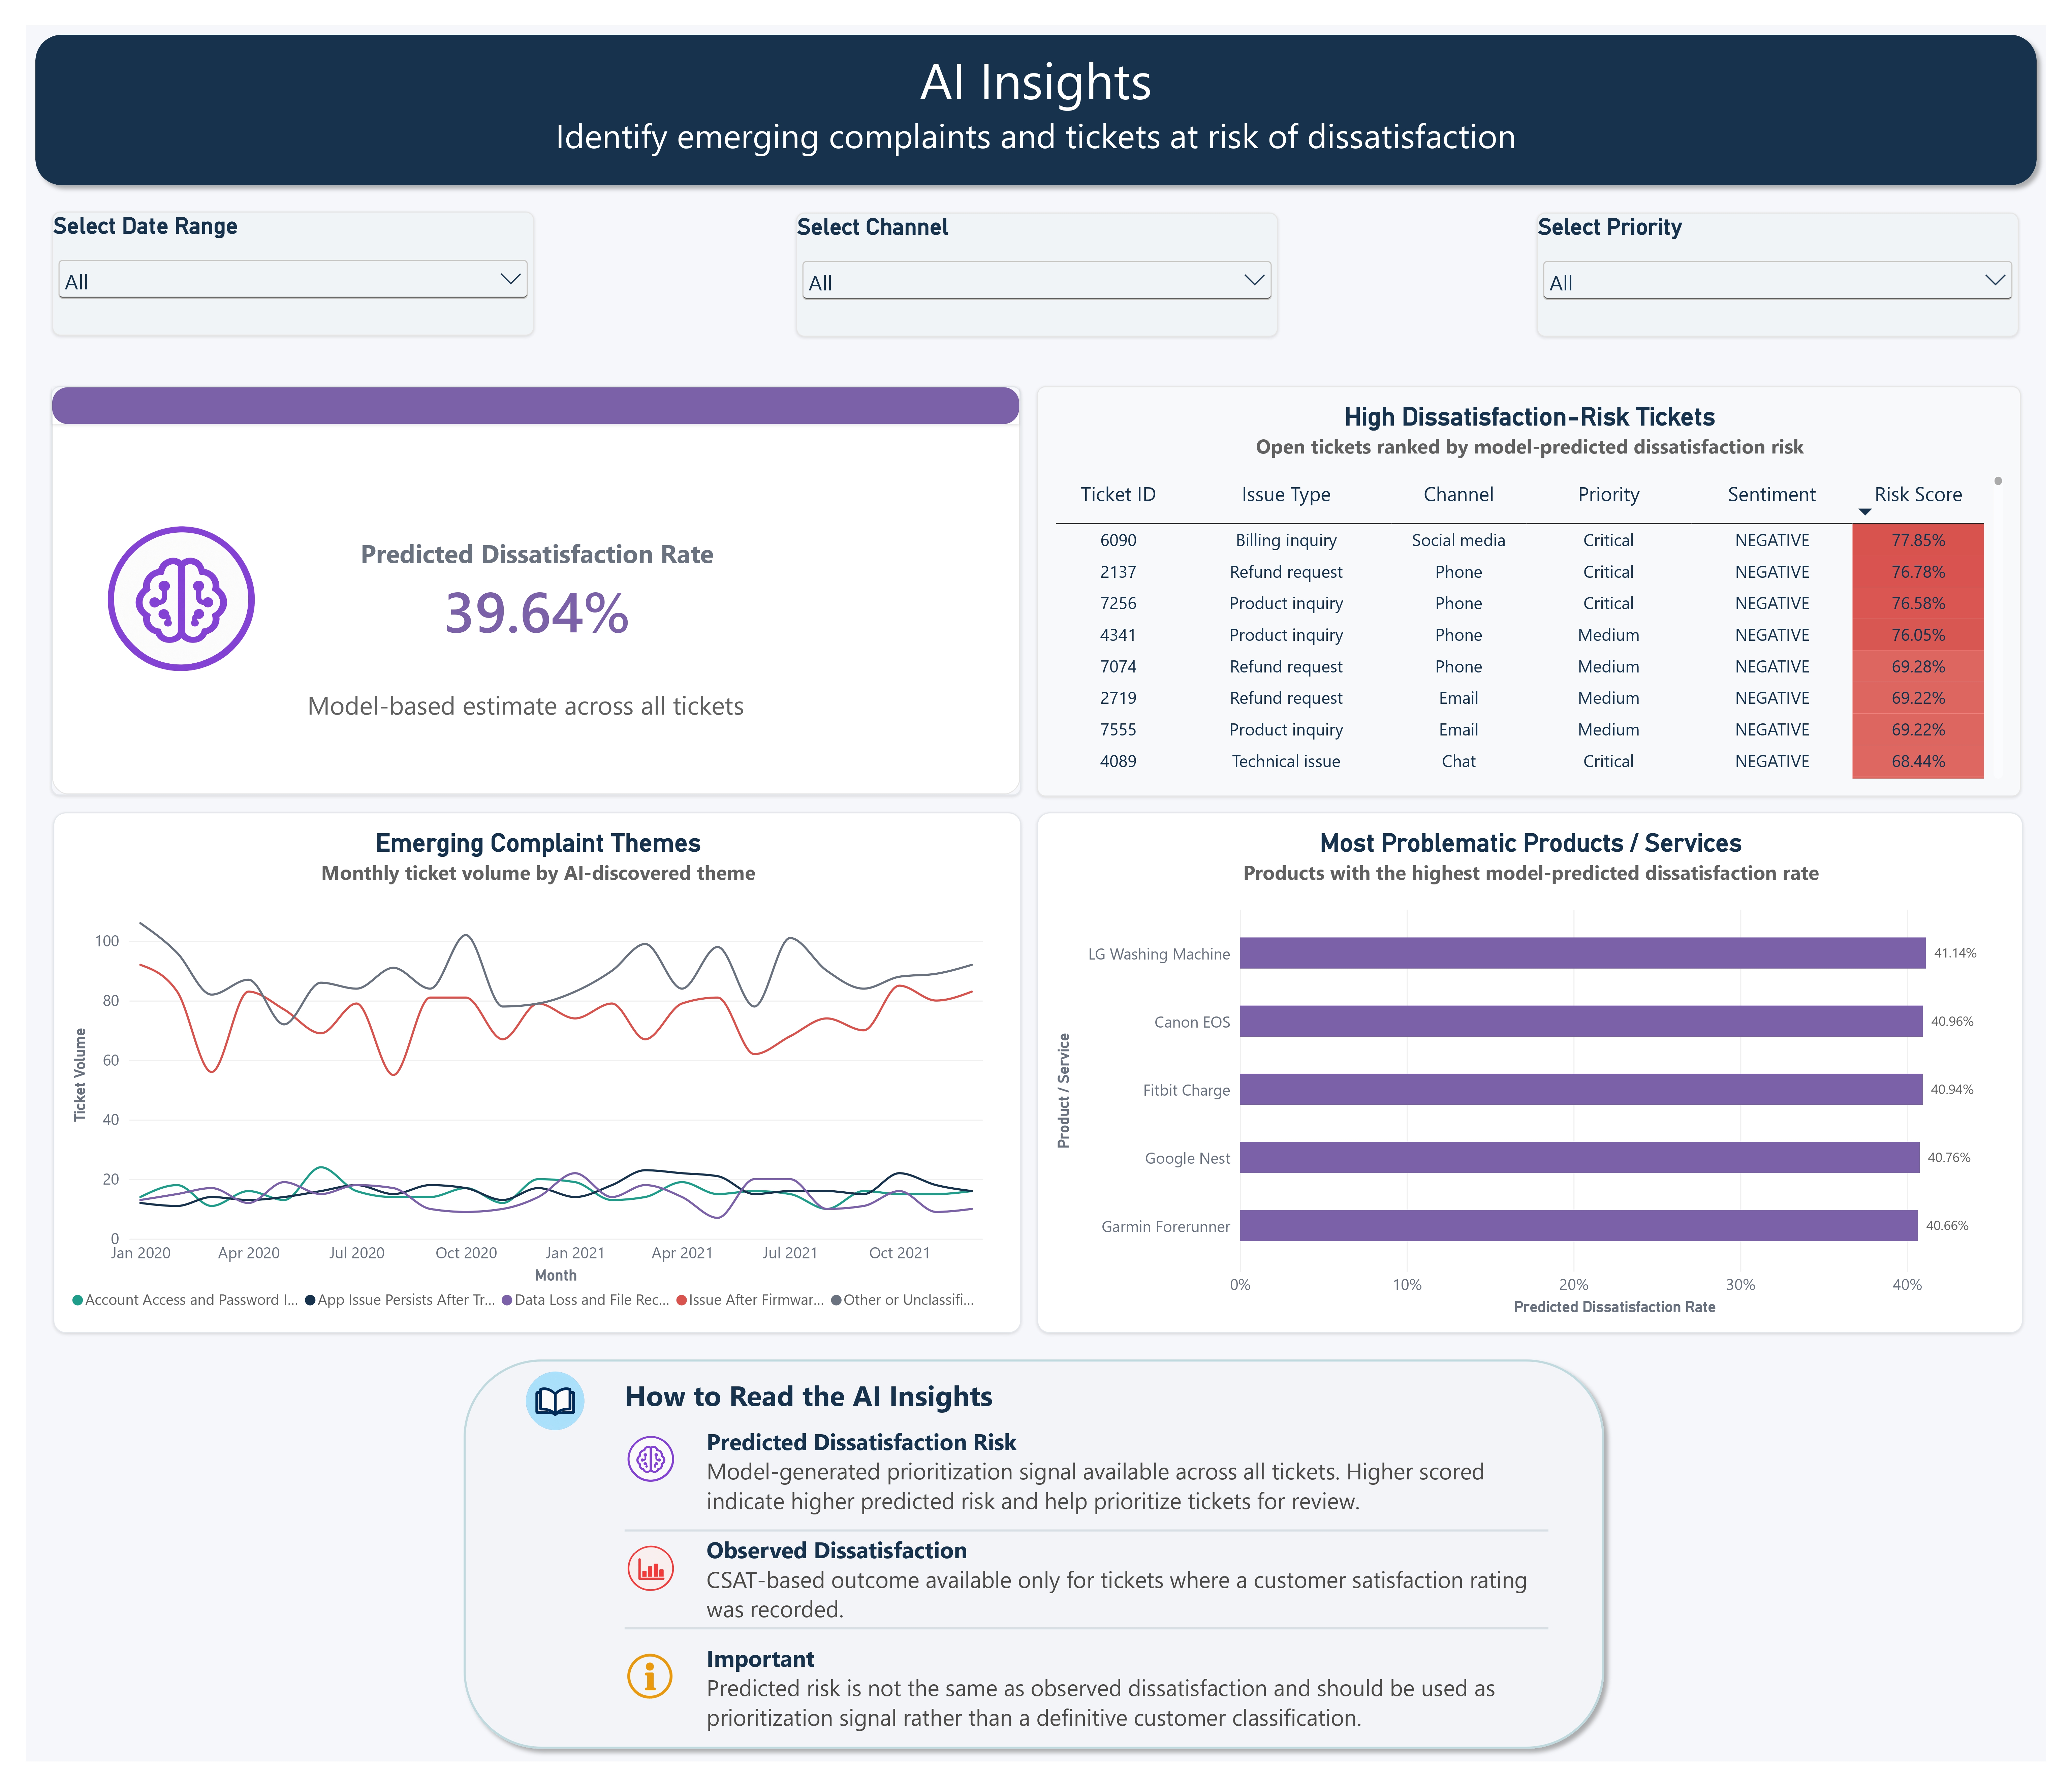

The page's visual inventory and layout, read from the dashboard file:
{"tool":"powerbi","page":{"name":"AI Insights","canvas":[1920,1650],"ordinal":2},"visuals":[{"type":"shape","box":[0,0,1920.4,160.5],"z":0},{"type":"textbox","box":[398,18,1124,124],"z":1000},{"type":"slicer","title":"Select Date Range","fields":{"Values":["dim_date.full_date"]},"box":[25,177.1,458,118],"z":2000},{"type":"slicer","title":"Select Channel","fields":{"Values":["dim_channel.ticket_channel"]},"box":[732,178,458,118],"z":3000},{"type":"slicer","title":"Select Priority","fields":{"Values":["dim_priority.ticket_priority"]},"box":[1436,178,458,118],"z":4000},{"type":"cardVisual","fields":{"Data":["fact_ticket.Predicted Dissatisfaction Rate"]},"box":[23.9,343.5,921.7,389.1],"z":5000,"group":"g1"},{"type":"tableEx","title":"High Dissatisfaction-Risk Tickets","fields":{"Values":["fact_ticket.ticket_id","dim_category.ticket_type","dim_channel.ticket_channel","dim_priority.ticket_priority","fact_ticket.sentiment_label","fact_ticket.dissatisfaction_risk_score"]},"box":[960.9,343.5,934.8,389.1],"z":5000},{"type":"group","id":"g1","title":"Group 1","box":[23.9,343.5,921.7,389.1],"z":6000},{"type":"shape","box":[25.3,344.6,918.9,34.8],"z":6000,"group":"g1"},{"type":"lineChart","title":"Emerging Complaint Themes","fields":{"Y":["fact_ticket.Total Tickets"],"Series":["fact_ticket.topic_label"],"Category":["dim_date.Month Start"]},"box":[26.1,747.8,919.6,495.7],"z":7000},{"type":"clusteredBarChart","title":"Most Problematic Products / Services","fields":{"Y":["fact_ticket.Predicted Dissatisfaction Rate"],"Category":["fact_ticket.product_purchased"]},"box":[960.9,747.8,937,495.7],"z":8000},{"type":"image","box":[52.4,468.5,189.4,151.5],"z":9000,"group":"g1"},{"type":"shape","box":[406.9,1258.6,1101.7,387.9],"z":9000,"group":"g2"},{"type":"textbox","box":[154.2,629.4,641.8,48.2],"z":10000,"group":"g1"},{"type":"textbox","box":[568.7,1282.6,885,56.7],"z":10000,"group":"g2"},{"type":"image","box":[540,1545,104.9,48.1],"z":10250,"group":"g2"},{"type":"image","box":[437.3,1274.8,131.6,64.2],"z":10500,"group":"g2"},{"type":"textbox","box":[646.6,1331,800,315.5],"z":11000,"group":"g2"},{"type":"shape","box":[569,1410.3,877.6,39.7],"z":12000,"group":"g2"},{"type":"shape","box":[569,1503.4,877.6,39.7],"z":13000,"group":"g2"},{"type":"image","box":[541.4,1441.4,104.9,48.1],"z":15000,"group":"g2"},{"type":"image","box":[541.4,1337.9,104.9,48.1],"z":16000,"group":"g2"},{"type":"group","id":"g2","title":"Group 2","box":[406.9,1258.6,1101.7,387.9],"z":16001}]}

Visuals, with their boxes on the page's 1920x1650 design canvas (x1, y1, x2, y2). These are canvas units, not pixel positions in the 2072x1787 screenshot, which may show the page scaled, cropped or inside an application window:
shape: 0, 0, 1920, 160
textbox: 398, 18, 1522, 142
"Select Date Range" slicer: 25, 177, 483, 295
"Select Channel" slicer: 732, 178, 1190, 296
"Select Priority" slicer: 1436, 178, 1894, 296
cardVisual - fact_ticket.Predicted Dissatisfaction Rate: 24, 344, 946, 733
"High Dissatisfaction-Risk Tickets" tableEx: 961, 344, 1896, 733
"Group 1" group: 24, 344, 946, 733
shape: 25, 345, 944, 379
"Emerging Complaint Themes" lineChart: 26, 748, 946, 1244
"Most Problematic Products / Services" clusteredBarChart: 961, 748, 1898, 1244
image: 52, 468, 242, 620
shape: 407, 1259, 1509, 1646
textbox: 154, 629, 796, 678
textbox: 569, 1283, 1454, 1339
image: 540, 1545, 645, 1593
image: 437, 1275, 569, 1339
textbox: 647, 1331, 1447, 1646
shape: 569, 1410, 1447, 1450
shape: 569, 1503, 1447, 1543
image: 541, 1441, 646, 1490
image: 541, 1338, 646, 1386
"Group 2" group: 407, 1259, 1509, 1646
